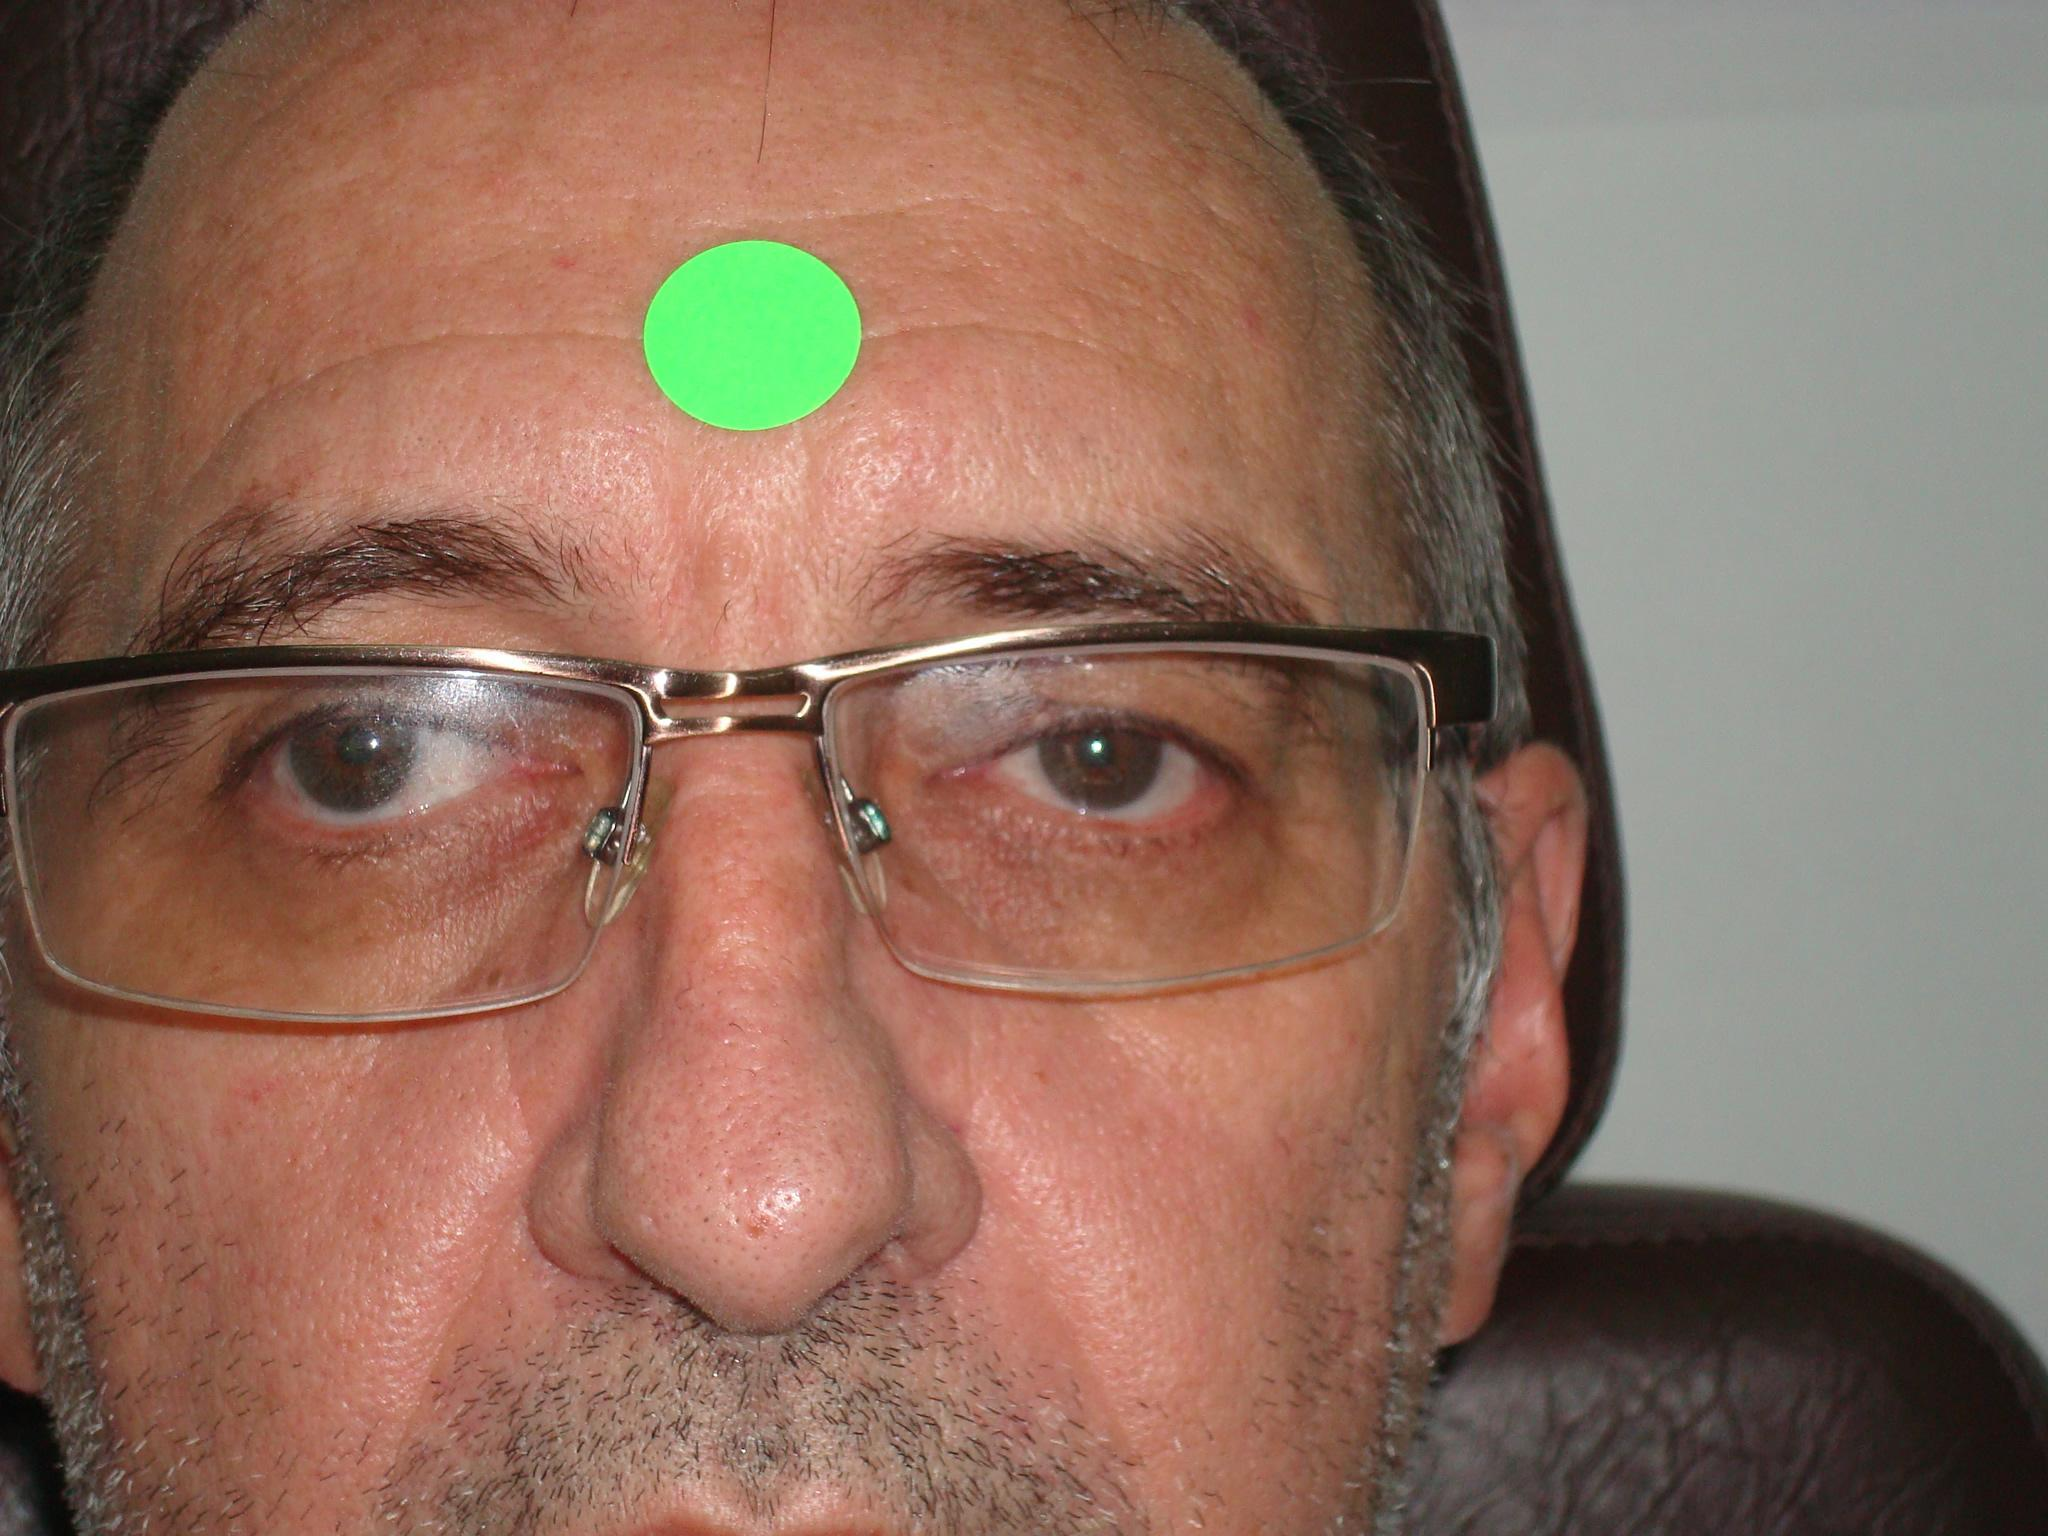flash: (1087, 736, 1106, 757), (364, 734, 384, 753)
limbo: (290, 687, 418, 807), (1032, 697, 1161, 803)
